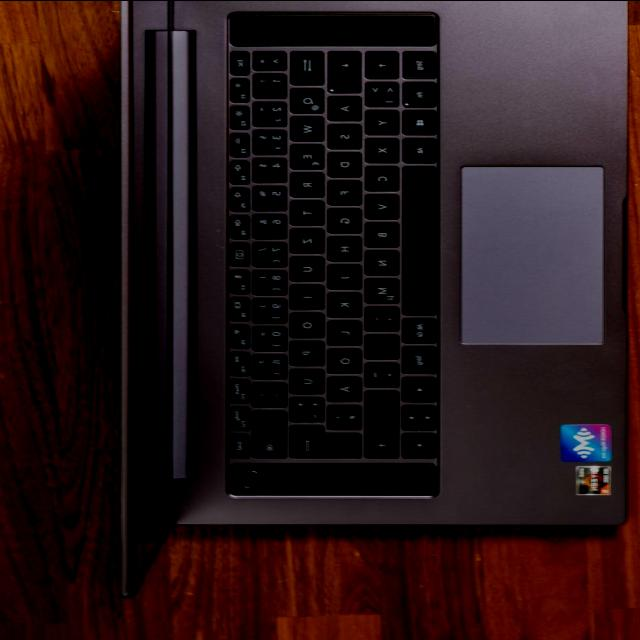0: (250, 323, 284, 349)
1: (250, 71, 285, 97)
2: (250, 98, 284, 124)
3: (250, 126, 284, 153)
4: (250, 155, 285, 181)
5: (250, 183, 284, 209)
6: (250, 210, 285, 237)
7: (250, 240, 285, 266)
8: (250, 268, 284, 293)
9: (250, 295, 284, 321)
a: (324, 93, 359, 119)
accent: (249, 380, 284, 406)
ae: (324, 374, 360, 401)
alt-left: (400, 135, 435, 161)
altgr-right: (399, 315, 434, 342)
b: (362, 219, 397, 246)
c: (361, 163, 397, 190)
caret: (250, 49, 284, 69)
comma: (361, 304, 396, 330)
d: (324, 149, 359, 175)
del: (249, 408, 285, 455)
e: (286, 141, 322, 168)
enter: (287, 422, 360, 456)
f: (325, 177, 359, 203)
g: (325, 205, 359, 231)
h: (324, 234, 360, 260)
hash: (324, 401, 359, 428)
i: (286, 282, 321, 308)
j: (324, 262, 359, 287)
k: (324, 289, 359, 315)
keyboard: (223, 6, 447, 499)
l: (324, 318, 359, 344)
less: (361, 78, 397, 105)
m: (362, 275, 397, 302)
minus: (362, 360, 396, 386)
n: (362, 246, 397, 274)
o: (287, 310, 322, 336)
oe: (324, 346, 359, 372)
p: (286, 338, 322, 364)
plus: (286, 394, 322, 420)
point: (362, 332, 396, 358)
q: (287, 85, 322, 112)
r: (286, 170, 322, 196)
s: (324, 121, 359, 147)
shift-left: (362, 48, 396, 77)
shift-lock: (325, 48, 359, 91)
shift-right: (361, 389, 396, 456)
space: (400, 163, 436, 313)
ss: (250, 351, 284, 377)
strg-left: (400, 48, 436, 78)
strg-right: (399, 343, 435, 373)
t: (286, 198, 322, 223)
tab: (286, 48, 322, 83)
u: (286, 254, 322, 281)
ue: (286, 366, 322, 392)
v: (362, 191, 397, 217)
w: (286, 114, 322, 140)
x: (361, 135, 397, 161)
y: (361, 107, 397, 133)
z: (287, 226, 322, 252)
